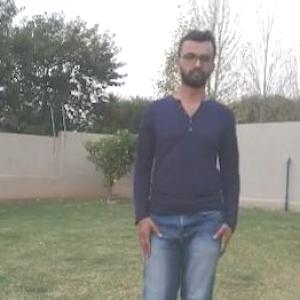follow: (146, 40, 231, 299)
